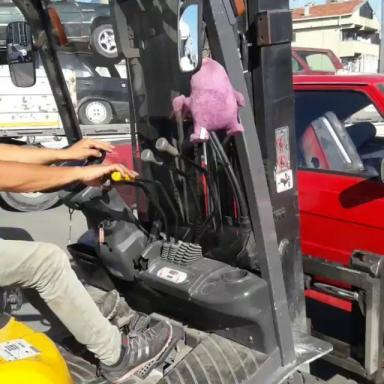forklift: (118, 56, 328, 383)
